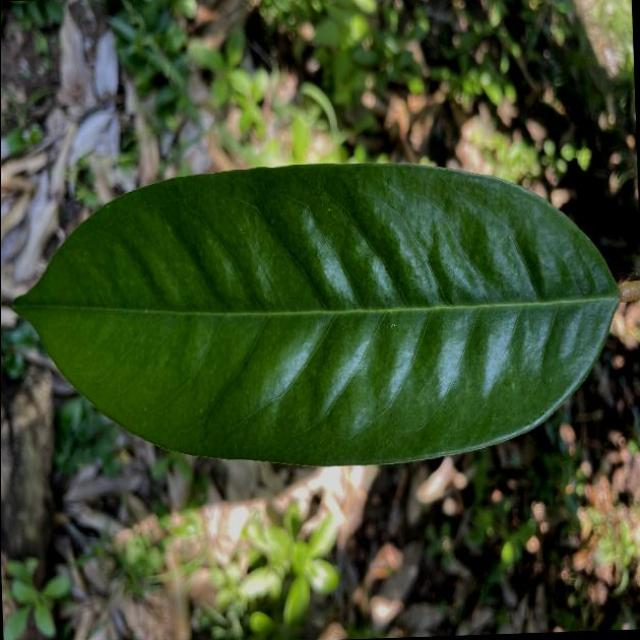No Disease: (0, 138, 639, 488)
